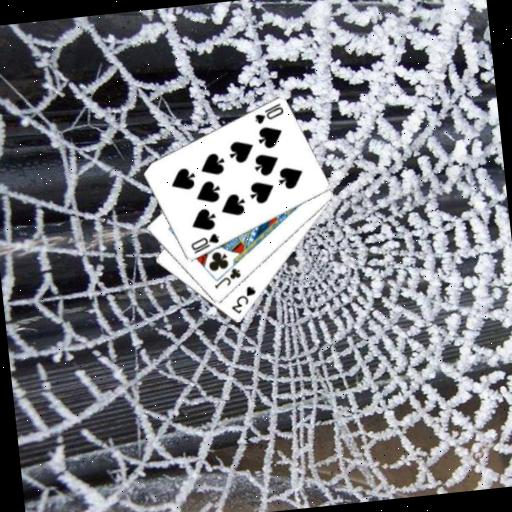10S: (187, 230, 223, 256), (250, 100, 286, 126)
3S: (226, 283, 259, 316)
JC: (210, 264, 244, 291)
